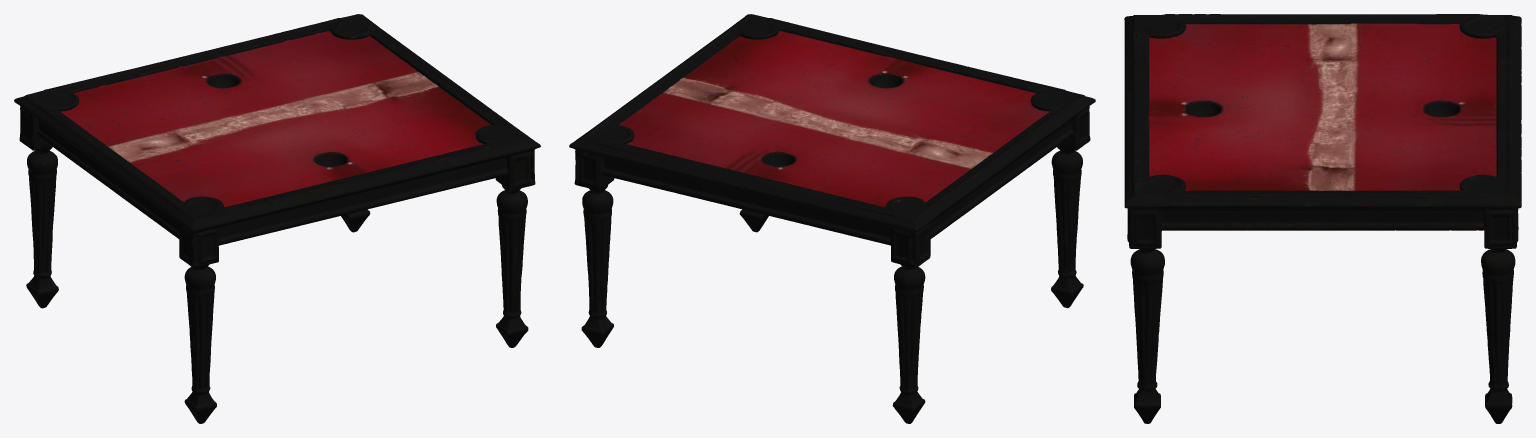
The model's file is halo.glb.
3 views of the same model, side by side, from view 1: azimuth 30°, elevation 25°; view 2: azimuth 150°, elevation 25°; view 3: azimuth 270°, elevation 25° (orthographic). The views are drawn at different scales.
Visible parts, largest first — view 1: world; view 2: world; view 3: world.
Part boxes in pixels (<box>): world: <box>14,14,540,423</box>; world: <box>569,14,1095,423</box>; world: <box>1124,14,1521,423</box>.
Bounding box in the file's own units: 1 × 0.5818 × 0.8914.
1 material, 1 textured.
